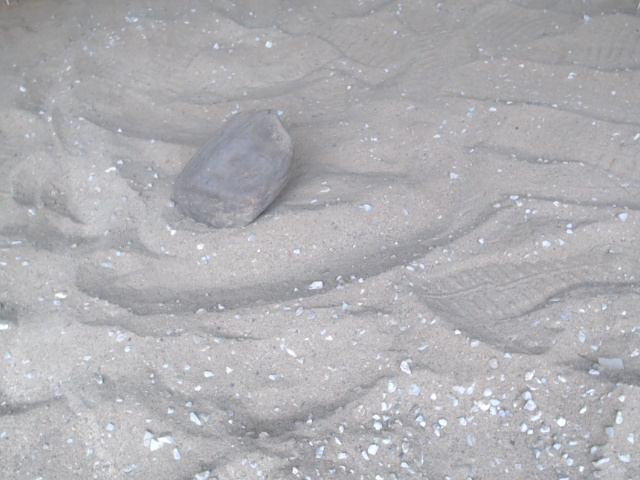rock: (162, 103, 301, 236)
